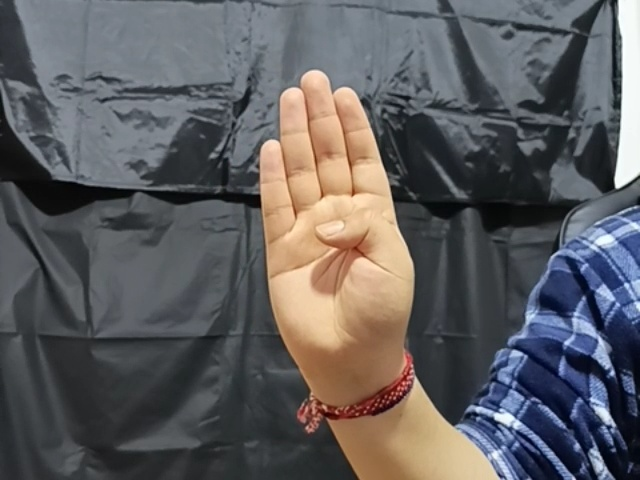B: (249, 66, 417, 375)
